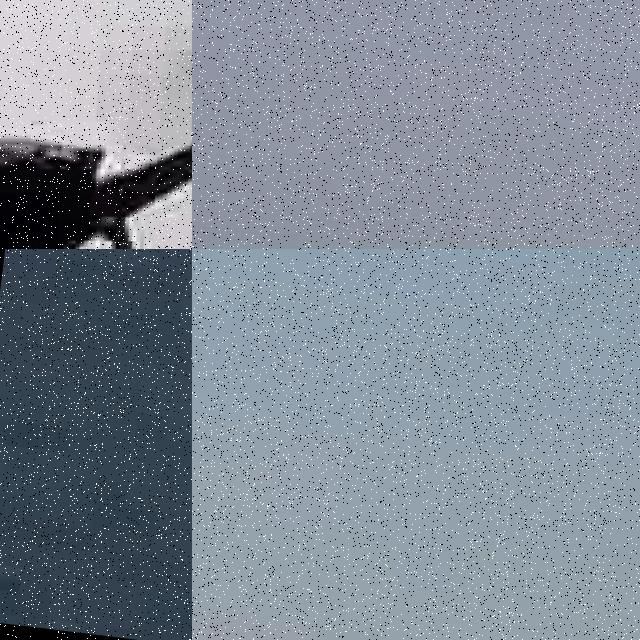drone: (0, 0, 192, 249)
